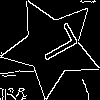L: (27, 21, 80, 68)
